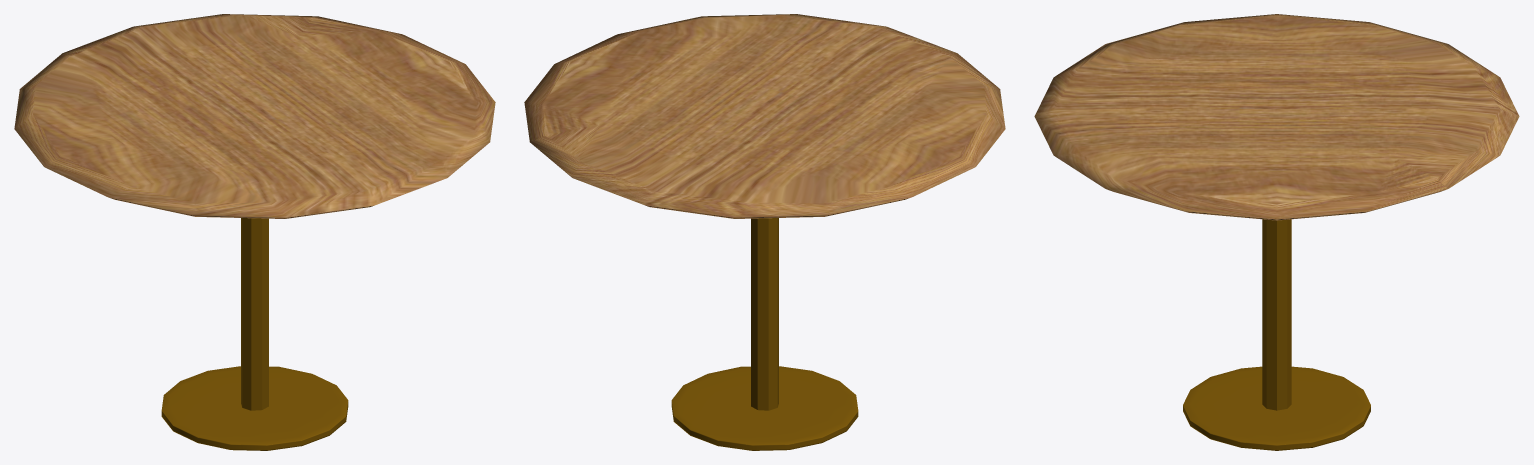
File: Outdoortable.fbx
The picture shows the model from 3 angles, left to right: view 1: azimuth 30°, elevation 25°; view 2: azimuth 150°, elevation 25°; view 3: azimuth 270°, elevation 25°; orthographic projection.
Parts seen in each view (by area): view 1: table, tablestand, tableleg; view 2: table, tablestand, tableleg; view 3: table, tablestand, tableleg.
Boxes of the visible parts, x1,y1,x2,y2 form: table: (14,14,495,218); tablestand: (161,366,348,450); tableleg: (241,218,268,410); table: (524,14,1005,218); tablestand: (671,366,858,450); tableleg: (751,218,778,410); table: (1034,14,1519,220); tablestand: (1183,366,1370,450); tableleg: (1262,219,1291,410).
Size of the model in its own units: 94.09 by 65.12 by 94.09.
